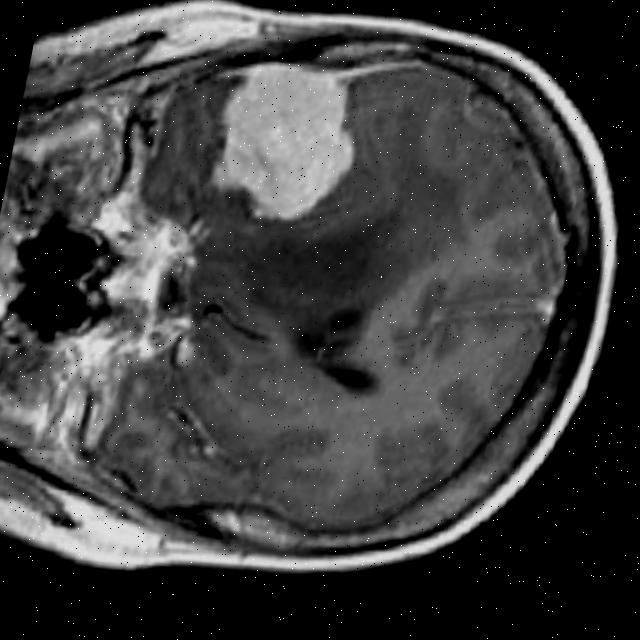Meningioma: (196, 39, 397, 240)
